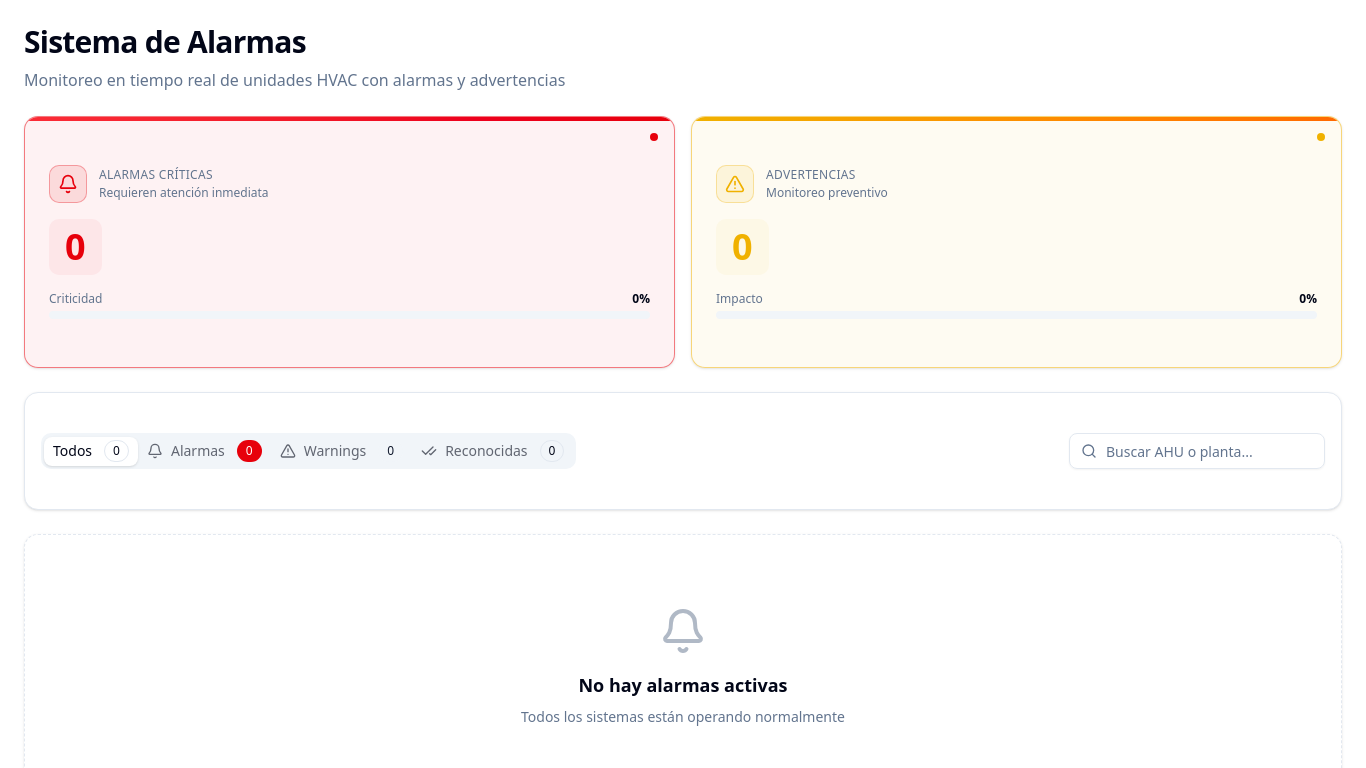
Test: AlarmsPage - Acknowledgment Flow › shows 'No hay alarmas reconocidas' empty state when ACKNOWLEDGED tab has nothing
Click the tab "Reconocidas 0" at [493, 451], box [412,436,574,466]
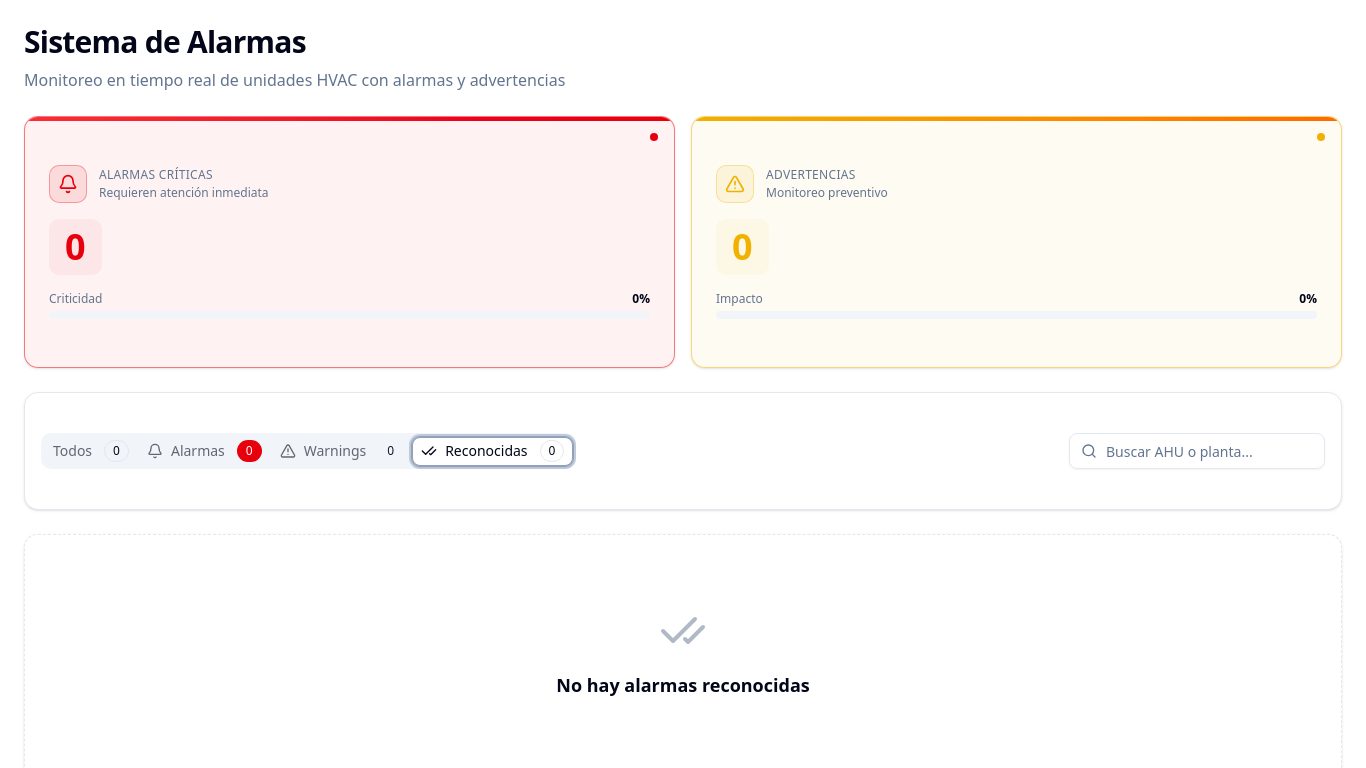
Result: the heading "No hay alarmas reconocidas" is shown at [556,671,810,699]
